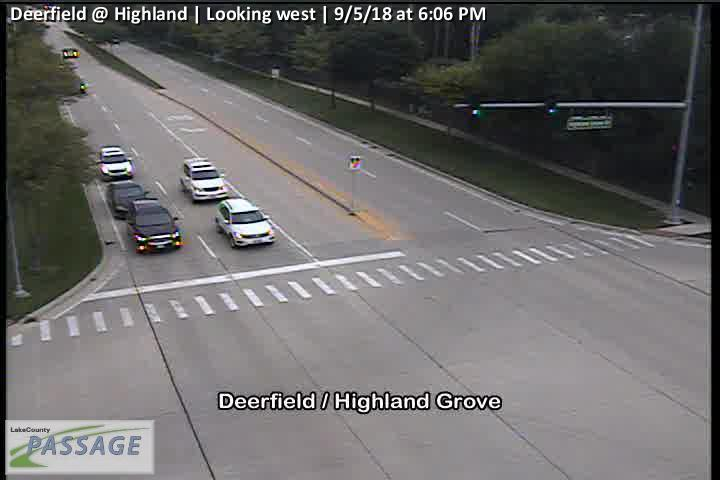SUV: (180, 157, 227, 201)
Sedan: (213, 197, 275, 245), (128, 200, 182, 252), (106, 181, 146, 217), (95, 146, 134, 179)
